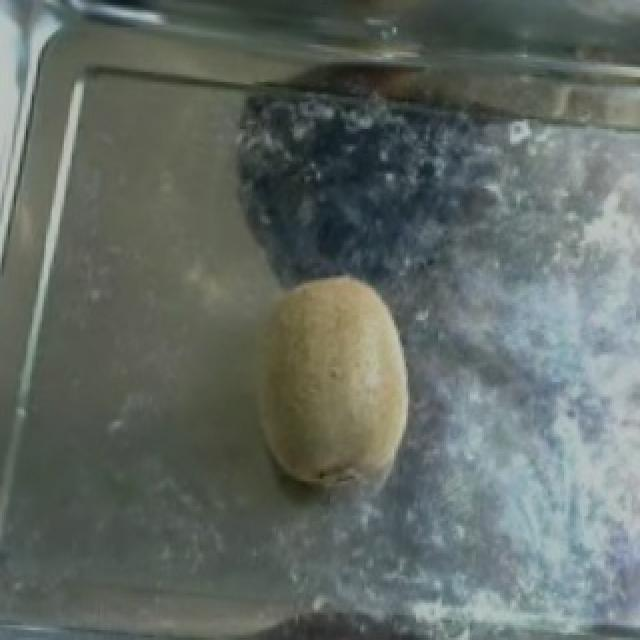Fruit: (232, 256, 428, 511)
